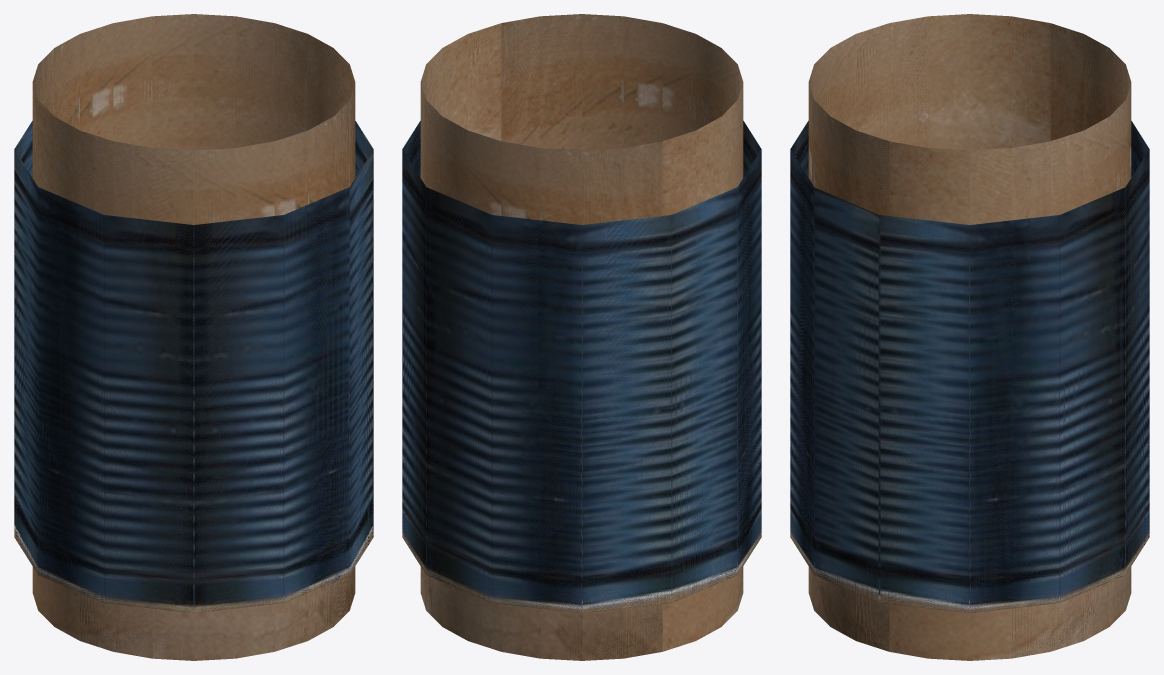
The model's file is solenoid.dae.
The picture shows the model from 3 angles, left to right: view 1: azimuth 30°, elevation 25°; view 2: azimuth 150°, elevation 25°; view 3: azimuth 270°, elevation 25°; orthographic projection.
Visible parts, largest first — view 1: SketchUp (×8), group_0 (×22); view 2: SketchUp (×8), group_0 (×22); view 3: SketchUp (×8), group_0 (×22).
Boxes of the visible parts, box(x1,y1,x2,y2) form: SketchUp (×8): box(14, 121, 373, 613); group_0 (×22): box(32, 14, 355, 660); SketchUp (×8): box(402, 121, 761, 613); group_0 (×22): box(420, 14, 743, 660); SketchUp (×8): box(790, 121, 1149, 613); group_0 (×22): box(808, 14, 1131, 660).
Size of the model in its own units: 457 by 457 by 717.
